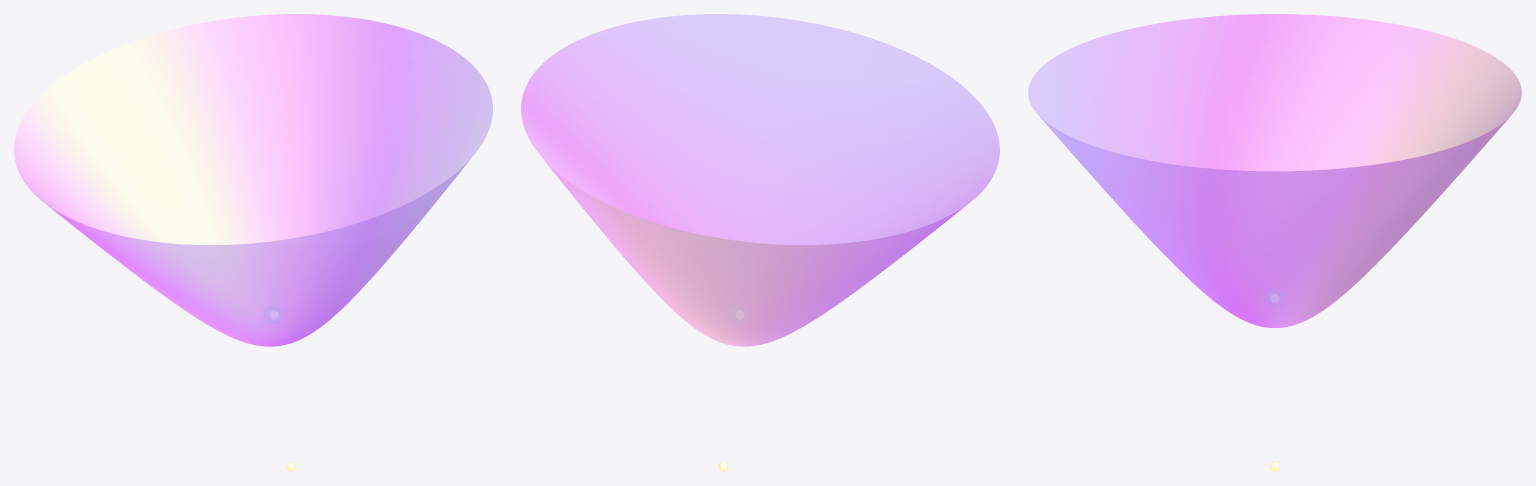
File: binary-shock-v0.1.glb
3 renders of one model, left to right at view 1: azimuth 30°, elevation 25°; view 2: azimuth 150°, elevation 25°; view 3: azimuth 270°, elevation 25°, orthographic. The views are drawn at different scales.
Parts seen in each view (by area): view 1: IBS shock surface; view 2: IBS shock surface; view 3: IBS shock surface.
Boxes of the visible parts, bbox=[...] form: IBS shock surface: bbox=[14, 14, 492, 346]; IBS shock surface: bbox=[521, 14, 999, 346]; IBS shock surface: bbox=[1028, 14, 1521, 327].
Size of the model in its own units: 2.76 by 2.39 by 2.78.
